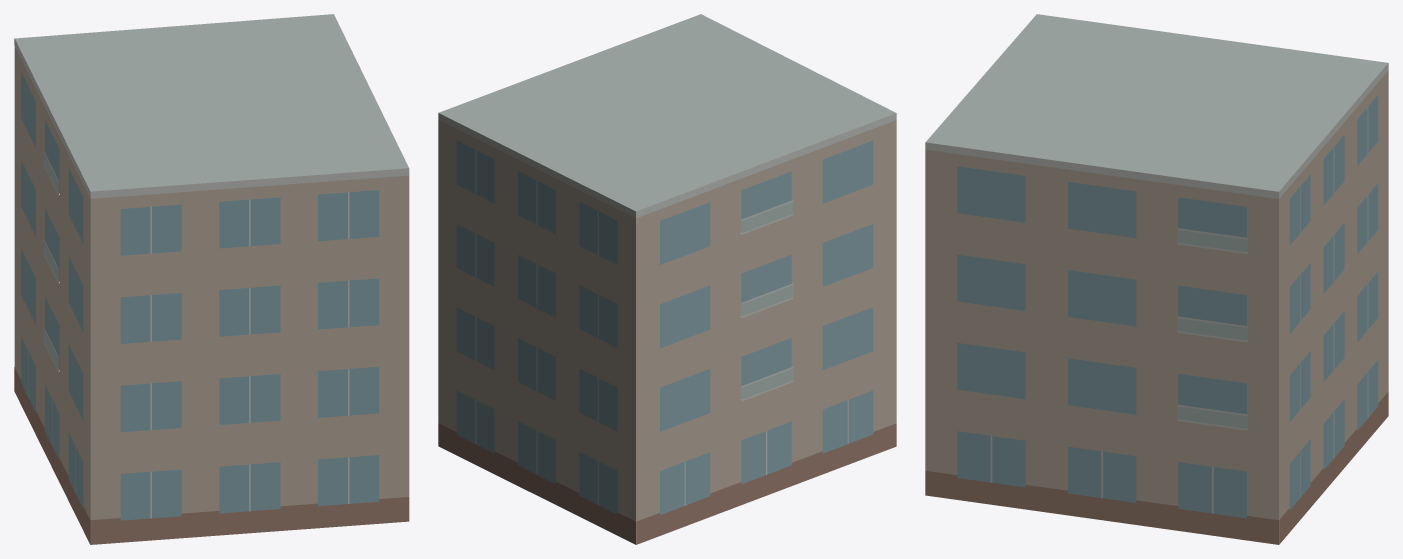
The model's file is survey-upis-32528261.glb.
3 renders of one model, left to right at view 1: azimuth 30°, elevation 25°; view 2: azimuth 150°, elevation 25°; view 3: azimuth 270°, elevation 25°, orthographic. The views are drawn at different scales.
Visible parts, largest first — view 1: survey-upis-32528261.tmp; view 2: survey-upis-32528261.tmp; view 3: survey-upis-32528261.tmp.
Boxes of the visible parts, x1=… form: survey-upis-32528261.tmp: x1=14, y1=14, x2=409, y2=544; survey-upis-32528261.tmp: x1=438, y1=14, x2=896, y2=544; survey-upis-32528261.tmp: x1=925, y1=14, x2=1388, y2=544.
Bounding box in the file's own units: 12.86 × 11.9 × 14.16.
